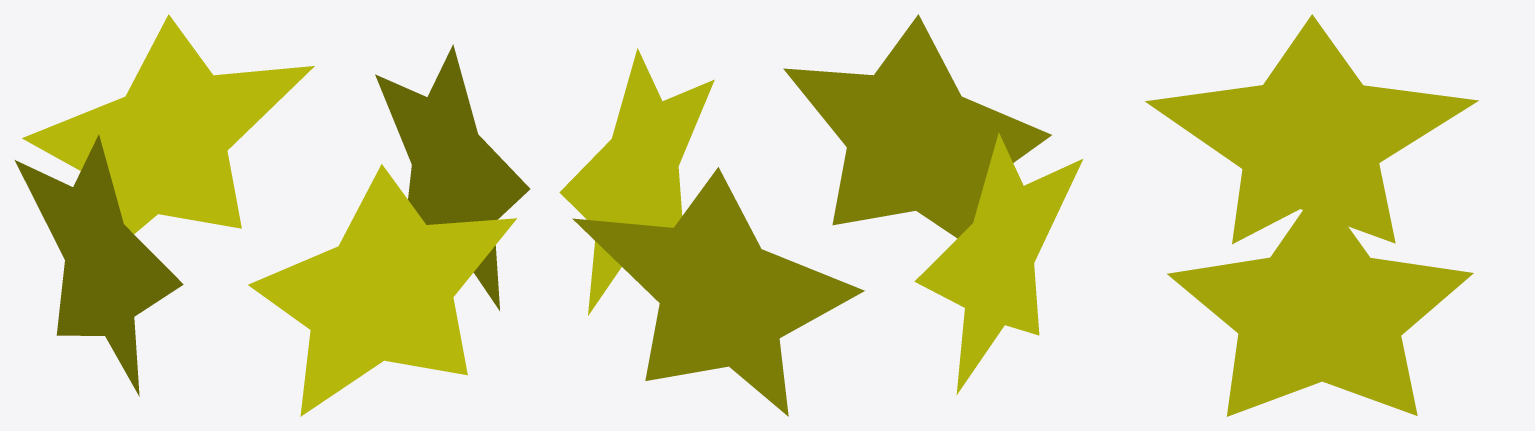
The model's file is _izzy.fbx.
3 renders of one model, left to right at view 1: azimuth 30°, elevation 25°; view 2: azimuth 150°, elevation 25°; view 3: azimuth 270°, elevation 25°, orthographic.
Visible parts, largest first — view 1: Star003; view 2: Star003; view 3: Star003.
Part boxes in pixels (bbox=[...]): Star003: bbox=[14, 14, 530, 416]; Star003: bbox=[559, 14, 1082, 416]; Star003: bbox=[1145, 14, 1478, 416].
Size of the model in its own units: 37.06 by 23.09 by 37.06.
